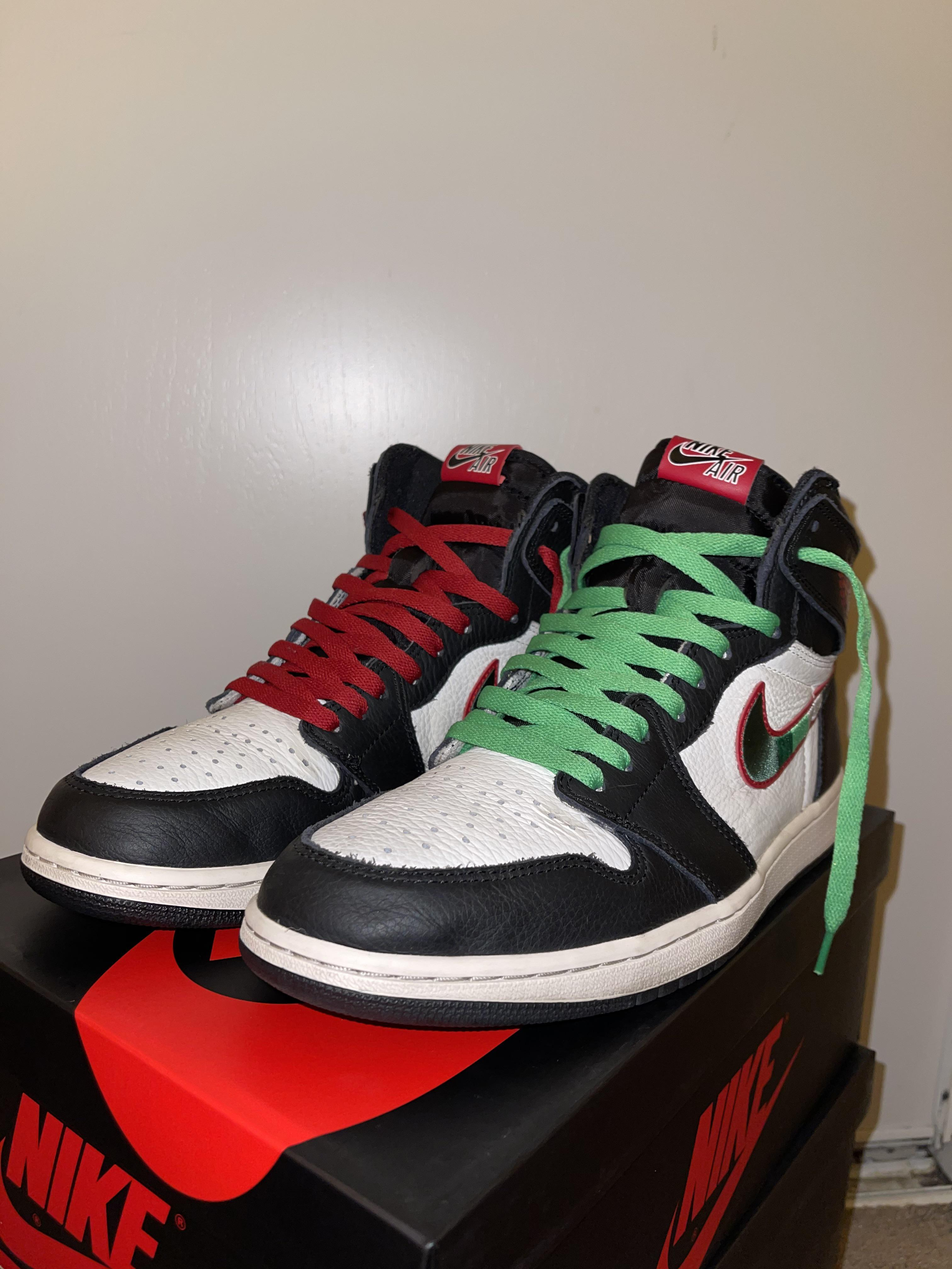sneaker: (249, 436, 895, 1013), (0, 434, 584, 916)
